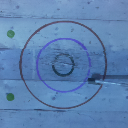Axe Tip: (87, 81, 99, 84)
